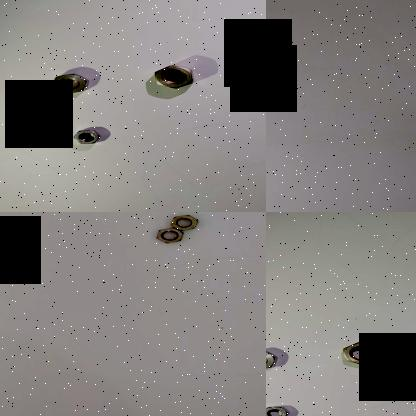NUTS: (150, 61, 198, 92), (340, 338, 387, 366), (48, 71, 92, 95), (168, 212, 200, 231), (154, 226, 187, 244), (70, 128, 103, 144), (266, 403, 296, 416), (266, 347, 280, 370)
